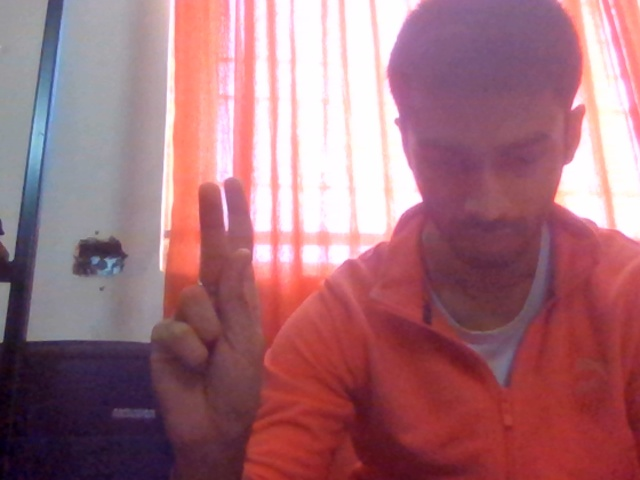K: (107, 159, 349, 480)
